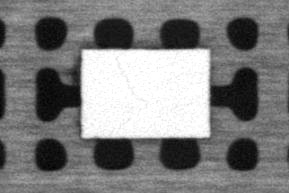DIE_CRACK: (113, 55, 147, 104)
